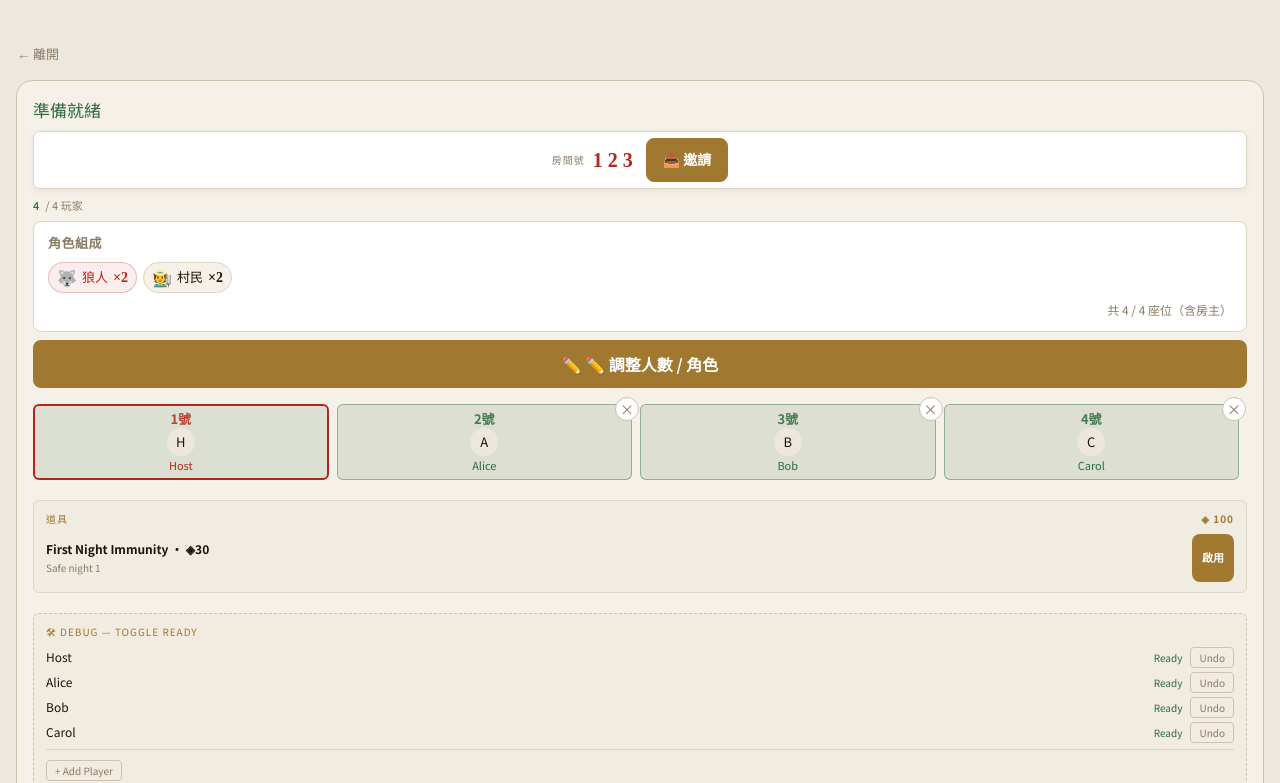
it: RoomView perk panel › shows the backend error message when activation is rejected (FCFS / insufficient)
Click the button with test id "perk-activate-btn" at (1213, 558), box [1192,534,1234,582]
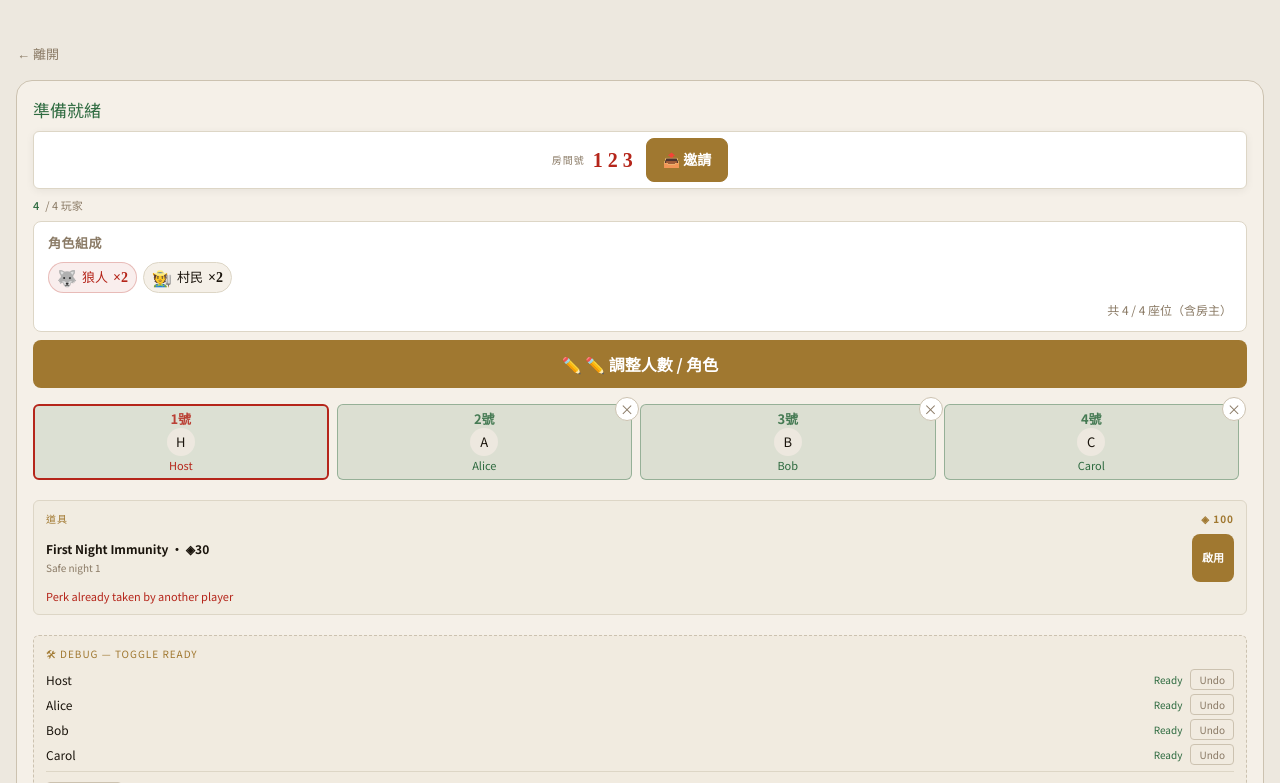
Expected: the text with test id "perk-error" reads "Perk already taken by another player", [46,588,233,604]
